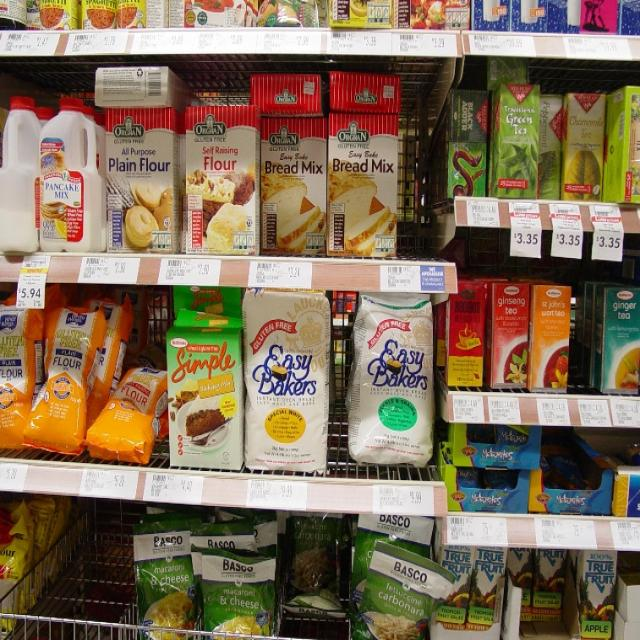q187: (32, 80, 108, 268)
